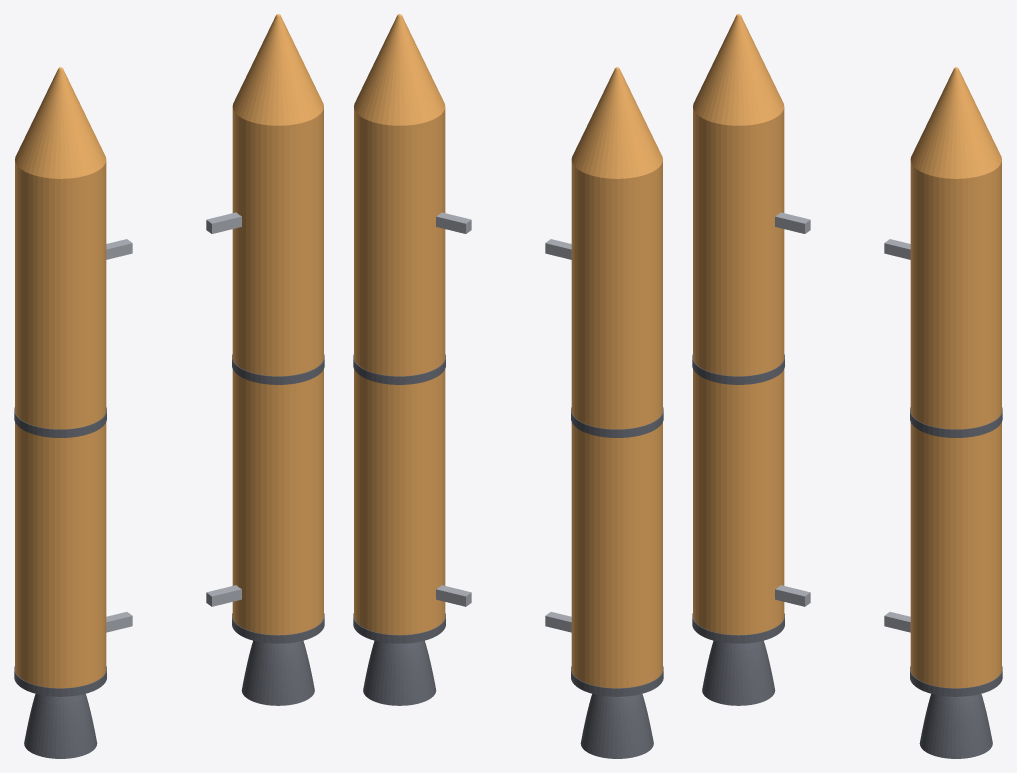
File: boosters_2_heavy.glb
3 views of the same model, side by side, from view 1: azimuth 30°, elevation 25°; view 2: azimuth 150°, elevation 25°; view 3: azimuth 330°, elevation 25° (orthographic).
Parts seen in each view (by area): view 1: boosters_2_heavy_7, boosters_2_heavy_0, boosters_2_heavy_1, boosters_2_heavy_8, boosters_2_heavy_4, boosters_2_heavy_11, boosters_2_heavy_3, boosters_2_heavy_2, boosters_2_heavy_10, boosters_2_heavy_9, boosters_2_heavy_5, boosters_2_heavy_6; view 2: boosters_2_heavy_7, boosters_2_heavy_0, boosters_2_heavy_1, boosters_2_heavy_8, boosters_2_heavy_4, boosters_2_heavy_11, boosters_2_heavy_3, boosters_2_heavy_2, boosters_2_heavy_10, boosters_2_heavy_9, boosters_2_heavy_5, boosters_2_heavy_6; view 3: boosters_2_heavy_0, boosters_2_heavy_7, boosters_2_heavy_8, boosters_2_heavy_1, boosters_2_heavy_11, boosters_2_heavy_4, boosters_2_heavy_10, boosters_2_heavy_3, boosters_2_heavy_9, boosters_2_heavy_2, boosters_2_heavy_12, boosters_2_heavy_13.
Boxes of the visible parts, x1,y1,x2,y2 form: boosters_2_heavy_7: (15, 161, 106, 688); boosters_2_heavy_0: (232, 108, 323, 635); boosters_2_heavy_1: (232, 14, 323, 125); boosters_2_heavy_8: (15, 67, 106, 178); boosters_2_heavy_4: (241, 640, 314, 705); boosters_2_heavy_11: (24, 694, 97, 758); boosters_2_heavy_3: (232, 613, 324, 643); boosters_2_heavy_2: (232, 354, 324, 384); boosters_2_heavy_10: (14, 666, 106, 696); boosters_2_heavy_9: (14, 407, 106, 437); boosters_2_heavy_5: (206, 212, 241, 233); boosters_2_heavy_6: (206, 585, 241, 606); boosters_2_heavy_7: (571, 161, 662, 688); boosters_2_heavy_0: (354, 108, 445, 635); boosters_2_heavy_1: (354, 14, 445, 125); boosters_2_heavy_8: (571, 67, 662, 178); boosters_2_heavy_4: (363, 640, 436, 705); boosters_2_heavy_11: (580, 694, 653, 758); boosters_2_heavy_3: (353, 613, 445, 643); boosters_2_heavy_2: (353, 354, 445, 384); boosters_2_heavy_10: (571, 666, 663, 696); boosters_2_heavy_9: (571, 407, 663, 437); boosters_2_heavy_5: (436, 212, 471, 233); boosters_2_heavy_6: (436, 585, 471, 606); boosters_2_heavy_0: (910, 161, 1001, 688); boosters_2_heavy_7: (693, 108, 784, 635); boosters_2_heavy_8: (693, 14, 784, 125); boosters_2_heavy_1: (910, 67, 1001, 178); boosters_2_heavy_11: (702, 640, 775, 705); boosters_2_heavy_4: (919, 694, 992, 758); boosters_2_heavy_10: (692, 613, 784, 643); boosters_2_heavy_3: (910, 666, 1002, 696); boosters_2_heavy_9: (692, 354, 784, 384); boosters_2_heavy_2: (910, 407, 1002, 437); boosters_2_heavy_12: (775, 212, 810, 233); boosters_2_heavy_13: (775, 585, 810, 606).
Size of the model in its own units: 4.52 by 9.8 by 1.22.
